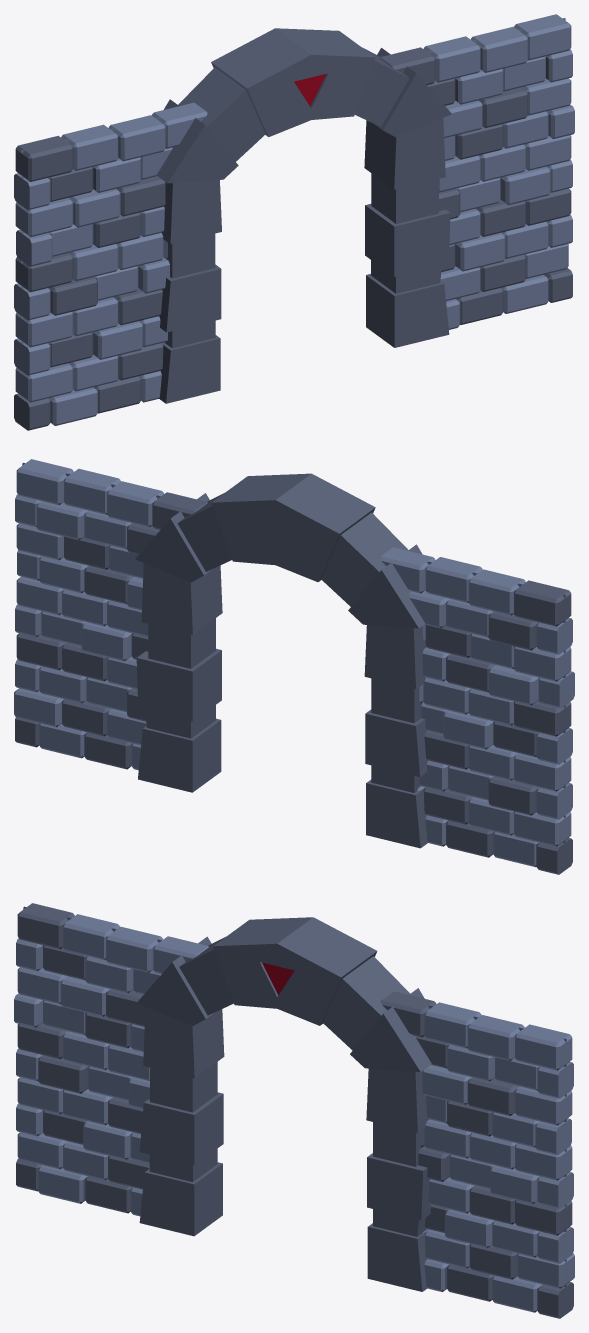
Rendered from muro grande sin puerta.fbx.
3 views of the same model, one above another, from view 1: azimuth 30°, elevation 25°; view 2: azimuth 150°, elevation 25°; view 3: azimuth 330°, elevation 25° (orthographic).
Parts seen in each view (by area): view 1: brick wall with door.001; view 2: brick wall with door.001; view 3: brick wall with door.001.
Part boxes in pixels (x1,y1,x2,y2): brick wall with door.001: [14, 14, 574, 430]; brick wall with door.001: [14, 459, 574, 874]; brick wall with door.001: [14, 903, 574, 1318].
Size of the model in its own units: 632 by 354 by 73.09.
